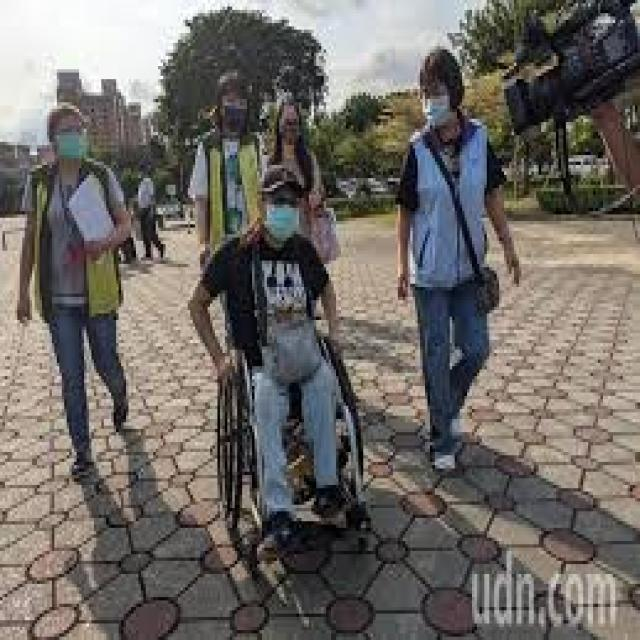wheelchairs: (198, 290, 358, 548)
